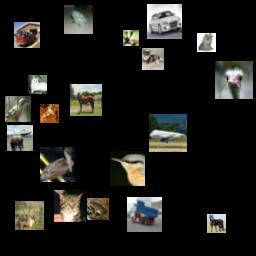airplane: (149, 114, 187, 152), (7, 125, 33, 151)
automobile: (147, 4, 182, 39)
bird: (215, 61, 253, 99), (110, 151, 145, 186), (40, 147, 75, 182), (5, 96, 31, 122)
cat: (54, 190, 86, 222), (28, 75, 47, 94)
deer: (15, 201, 44, 230), (123, 30, 139, 46)
dog: (142, 48, 164, 70), (197, 33, 216, 52)
frog: (64, 5, 93, 34), (87, 198, 109, 220)
truck: (127, 197, 162, 232), (14, 22, 40, 48)
